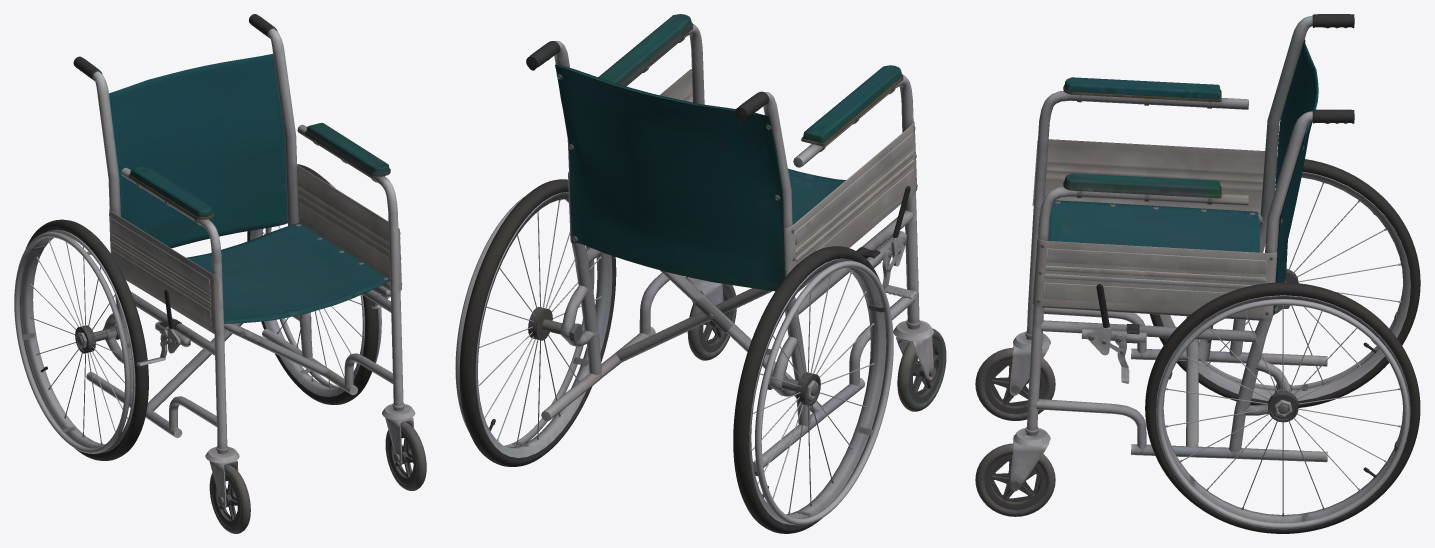
File: wheelchair.glb
The picture shows the model from 3 angles, left to right: view 1: azimuth 30°, elevation 25°; view 2: azimuth 150°, elevation 25°; view 3: azimuth 270°, elevation 25°; orthographic projection. The views are drawn at different scales.
Parts seen in each view (by area): view 1: wheelchair_01; view 2: wheelchair_01; view 3: wheelchair_01.
Boxes of the visible parts, x1=… form: wheelchair_01: x1=14, y1=14, x2=426, y2=533; wheelchair_01: x1=455, y1=14, x2=946, y2=533; wheelchair_01: x1=975, y1=14, x2=1420, y2=533.
Bounding box in the file's own units: 0.8241 × 1.1 × 1.09.
Materials: 1 (1 with a texture image).
